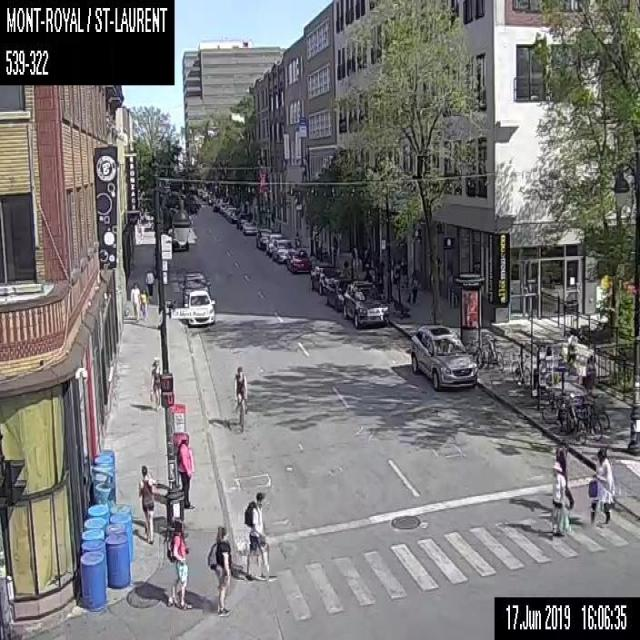cyclist: (230, 363, 247, 432)
pedestrian: (205, 521, 233, 616), (244, 488, 270, 583), (586, 446, 614, 526), (166, 518, 188, 610), (137, 463, 157, 544), (549, 460, 569, 534), (555, 447, 573, 529), (176, 431, 194, 508), (149, 357, 161, 411), (566, 326, 576, 374), (584, 354, 595, 392), (144, 266, 154, 302), (130, 282, 139, 318), (376, 254, 385, 287), (139, 286, 148, 318), (409, 271, 418, 302), (399, 254, 407, 287), (332, 235, 338, 258), (352, 244, 357, 270)
vehicle: (409, 322, 478, 392), (343, 280, 388, 326), (169, 208, 196, 250), (184, 290, 214, 326), (181, 272, 210, 306), (325, 277, 353, 311), (310, 265, 340, 294), (286, 250, 312, 272), (272, 239, 295, 262), (265, 232, 283, 255), (255, 228, 272, 247), (235, 212, 250, 227), (224, 206, 238, 222), (241, 221, 257, 234), (213, 196, 229, 208), (219, 202, 232, 212), (207, 194, 216, 203), (202, 190, 208, 200), (196, 188, 203, 195)
